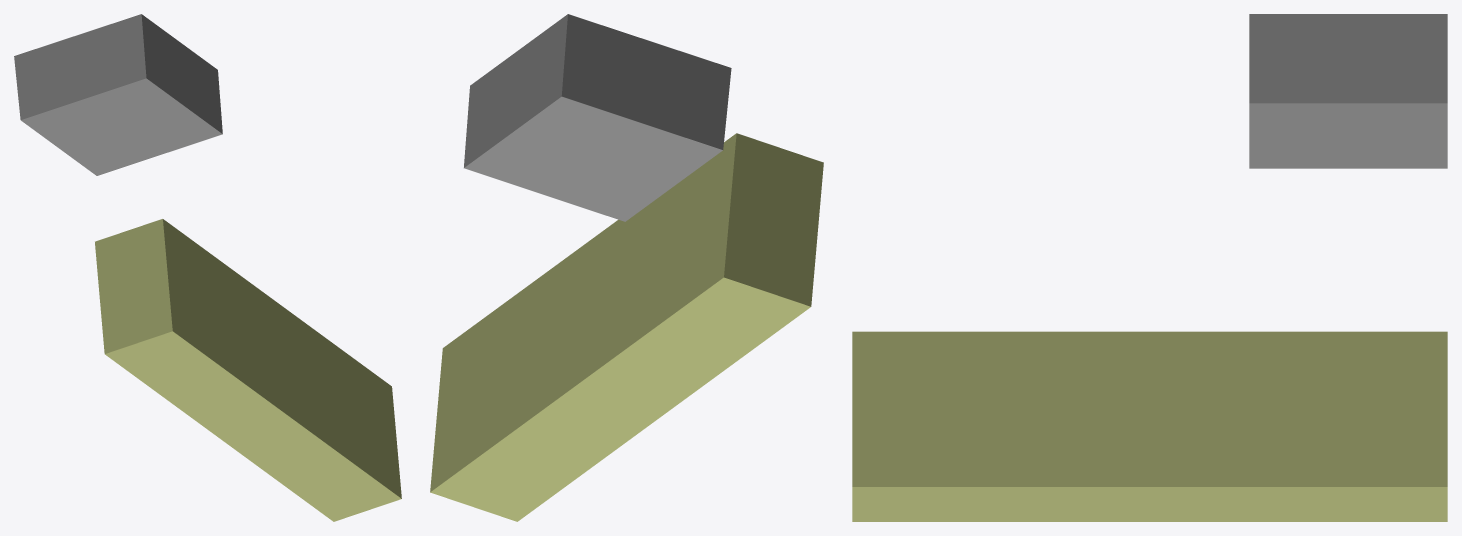
The picture shows the model from 3 angles, left to right: view 1: azimuth 30°, elevation 25°; view 2: azimuth 150°, elevation 25°; view 3: azimuth 270°, elevation 25°; orthographic projection. The views are drawn at different scales.
Parts seen in each view (by area): view 1: 0_2_3_3_3_1_0_1_3_0_2; view 2: 0_2_3_3_3_1_0_1_3_0_2; view 3: 0_2_3_3_3_1_0_1_3_0_2.
Part boxes in pixels (left/top/right/bottom): 0_2_3_3_3_1_0_1_3_0_2: left=14, top=14, right=401, bottom=521; 0_2_3_3_3_1_0_1_3_0_2: left=430, top=14, right=823, bottom=521; 0_2_3_3_3_1_0_1_3_0_2: left=852, top=14, right=1447, bottom=521.
Bounding box in the file's own units: 3.6 × 7.18 × 9.
